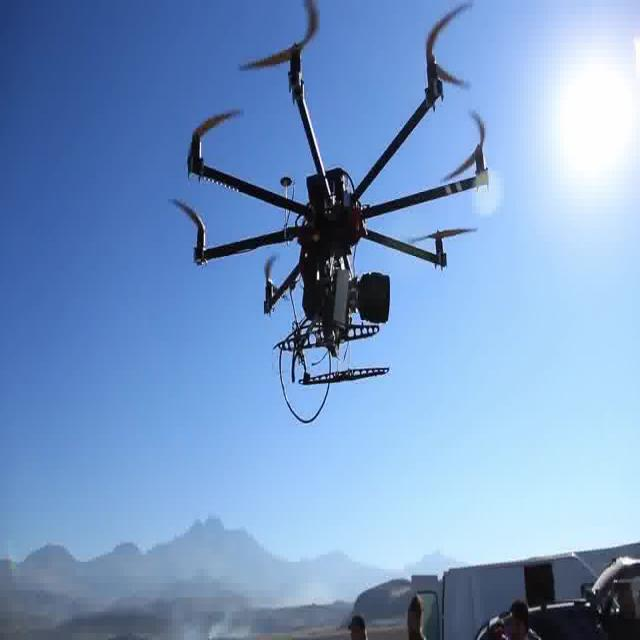drones: (161, 2, 495, 431)
